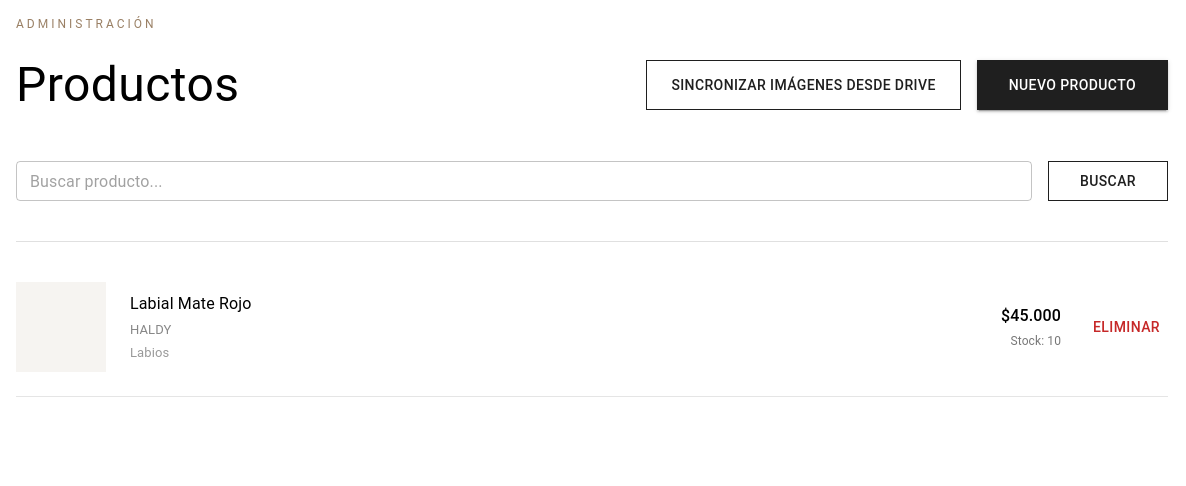
it: AdminProducts › shows the backend failure message when deletion is rejected by the server
Expected: the text "Labial Mate Rojo" is shown, [130,294,252,312]
Click the button "Eliminar".
click(1126, 327)  # box [1085,309,1168,345]
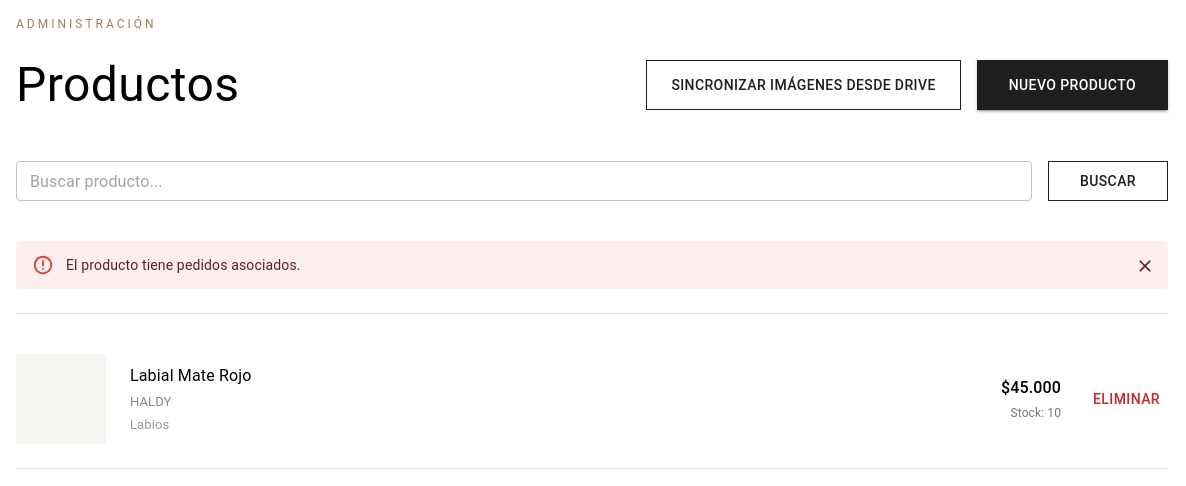
Now the text "El producto tiene pedidos asociados." is shown, box [66,257,301,273]
